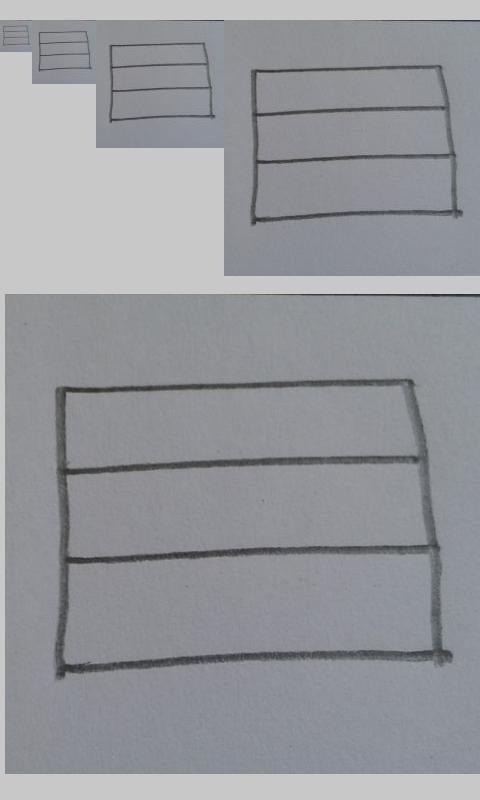list_view: (54, 376, 444, 676), (249, 64, 458, 222), (108, 42, 213, 122), (37, 30, 92, 72), (2, 24, 30, 46)
